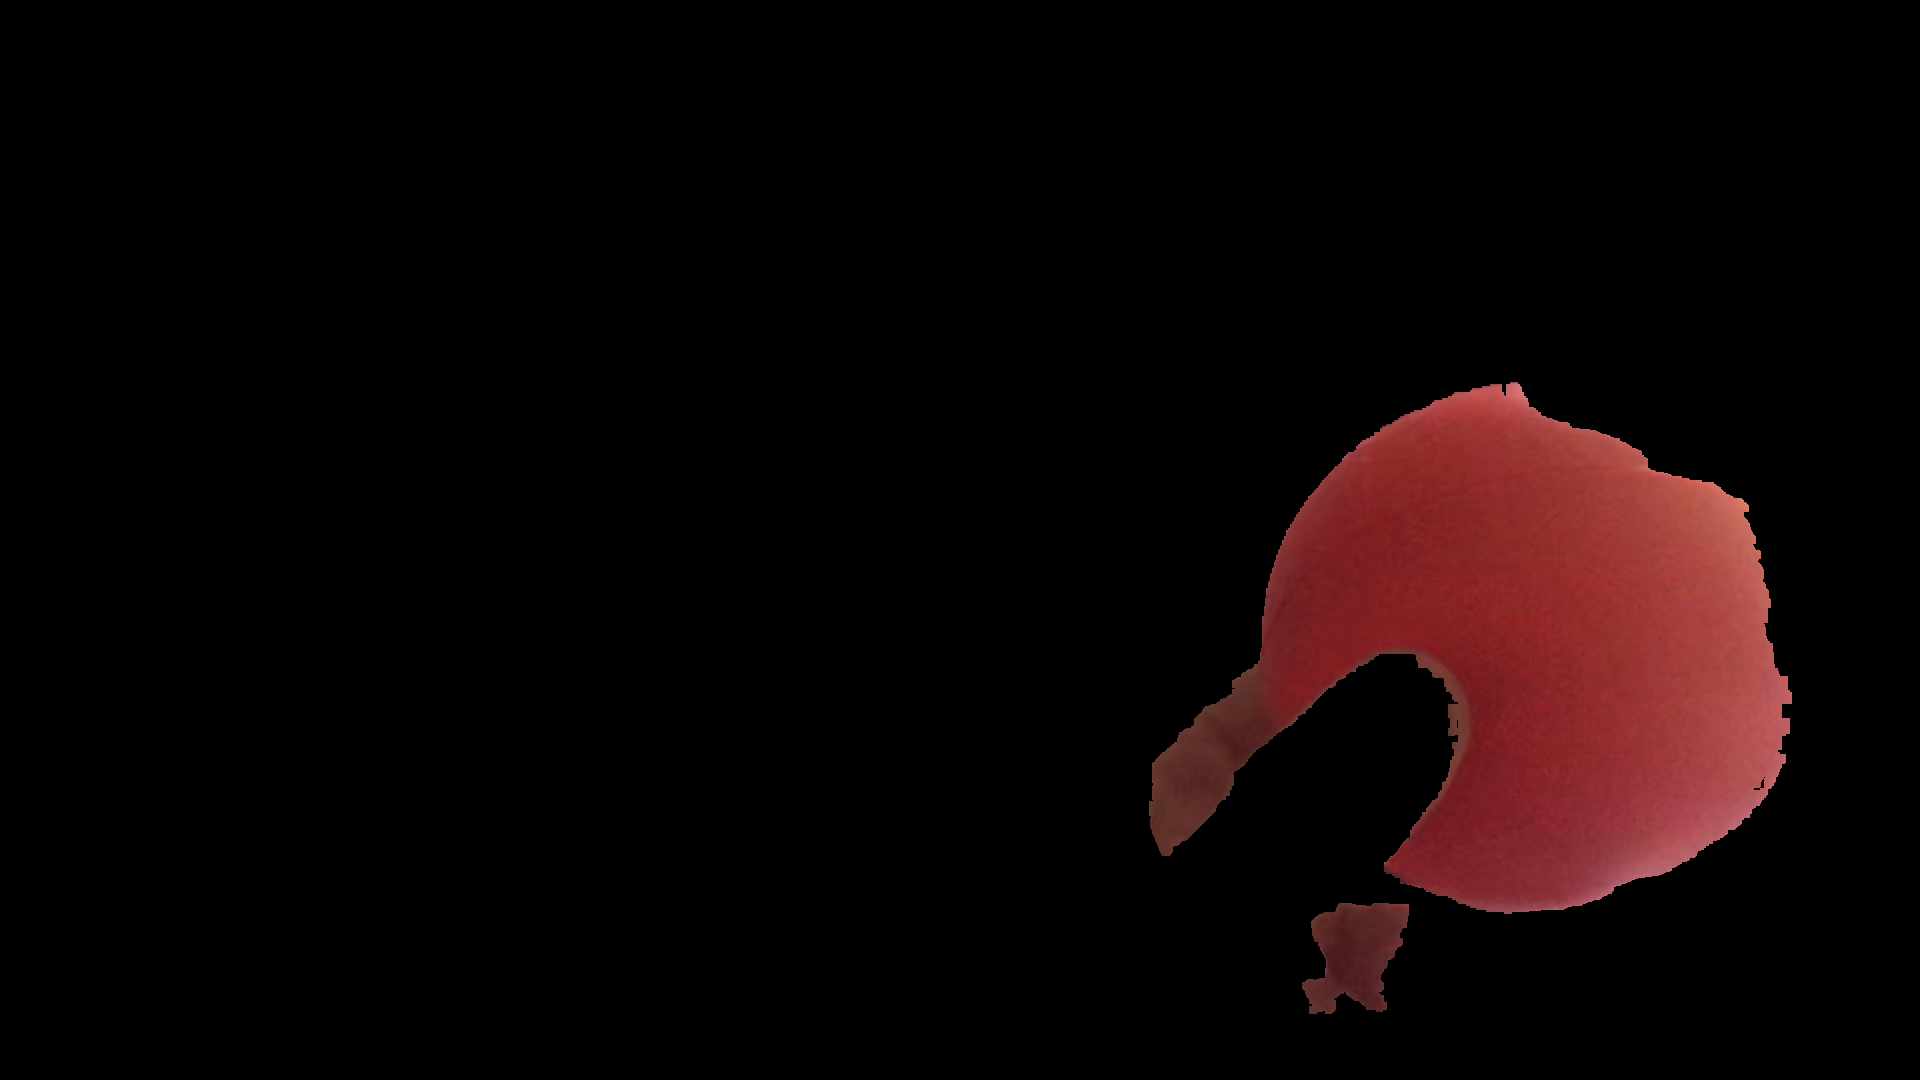Ball: (1261, 382, 1818, 920)
